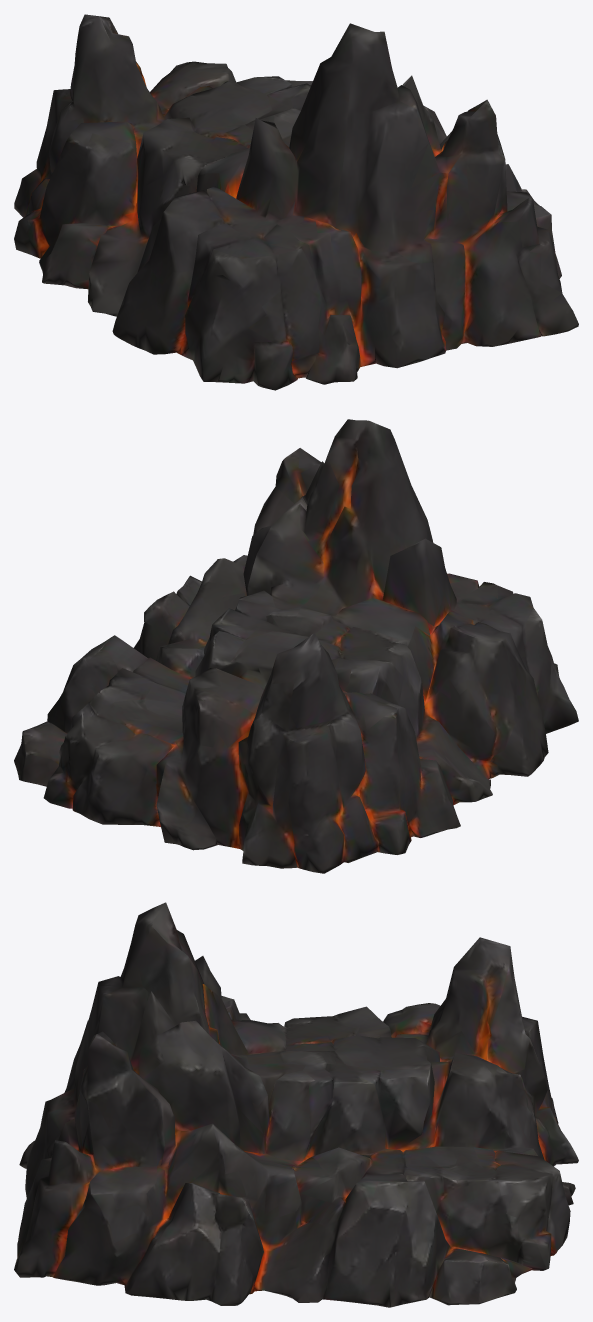
File: rock_outcrop.glb
3 renders of one model, top to bottom at view 1: azimuth 30°, elevation 25°; view 2: azimuth 150°, elevation 25°; view 3: azimuth 270°, elevation 25°, orthographic. The views are drawn at different scales.
Parts seen in each view (by area): view 1: tripo_node_cad07bcc-7fe2-4bc9-80e5-b59e5b4d1b3c; view 2: tripo_node_cad07bcc-7fe2-4bc9-80e5-b59e5b4d1b3c; view 3: tripo_node_cad07bcc-7fe2-4bc9-80e5-b59e5b4d1b3c.
Part boxes in pixels (x1,y1,x2,y2): tripo_node_cad07bcc-7fe2-4bc9-80e5-b59e5b4d1b3c: [14, 14, 578, 390]; tripo_node_cad07bcc-7fe2-4bc9-80e5-b59e5b4d1b3c: [14, 419, 578, 873]; tripo_node_cad07bcc-7fe2-4bc9-80e5-b59e5b4d1b3c: [14, 902, 578, 1307].
Size of the model in its own units: 0.8782 by 0.5798 by 1.
1 material, 1 textured.
